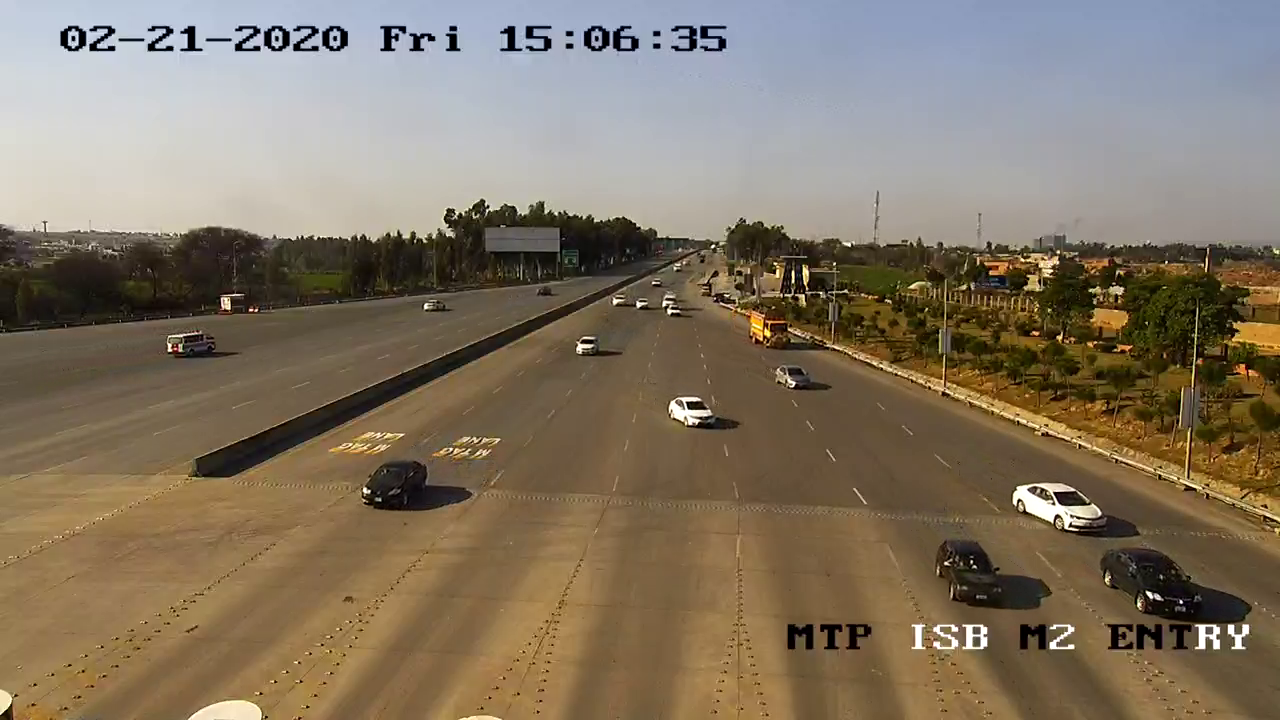f1: (1088, 538, 1214, 623), (917, 524, 1022, 612), (1005, 475, 1117, 538), (354, 448, 439, 518), (665, 390, 720, 437), (767, 361, 824, 394), (569, 333, 605, 366)
f5: (743, 304, 800, 354)
